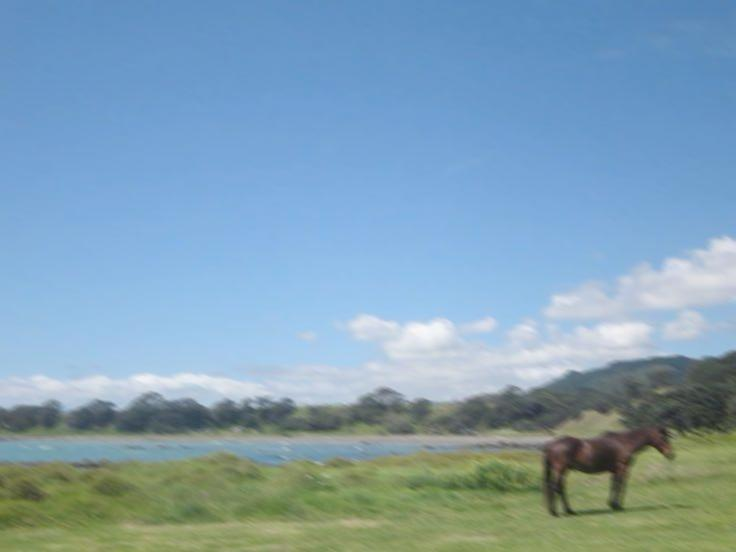horse: (542, 423, 674, 516)
